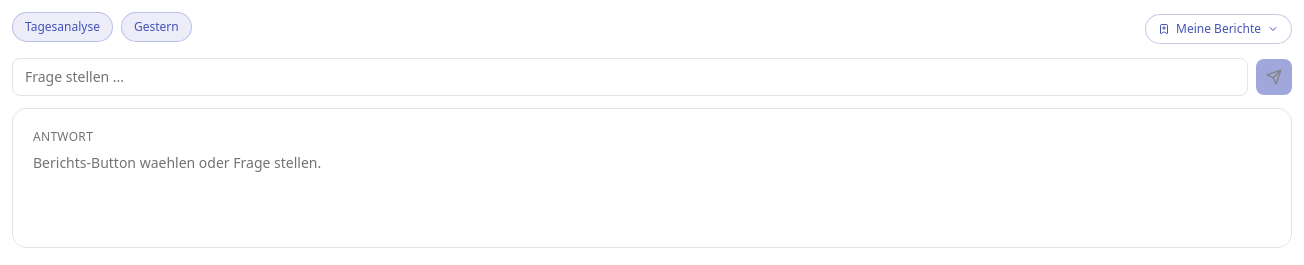
Test: KIWorkspace › V7.6 SLC-763 Custom-Reports wire-up › Save-as-Report button is visible after Freie-Frage Send (DEC-216 happy path)
In the field with test id "ki-workspace-input": (630, 77) [12,58,1248,96], type "Welche Deals haben keine Aktivitaet?"
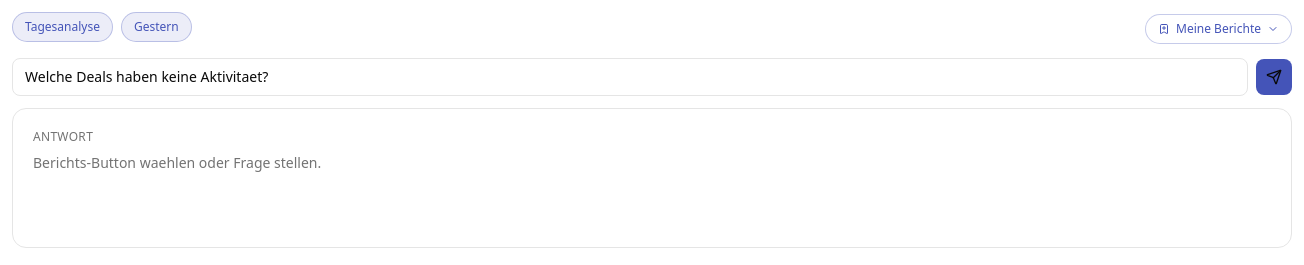
Click the button with test id "ki-workspace-send-button": (1274, 77) [1256,59,1292,95]
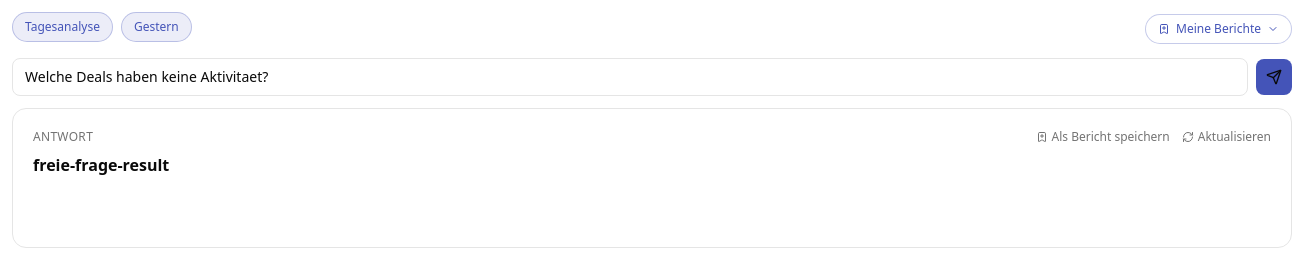
Now the element with test id "ki-workspace-result" reads "freie-frage-result", box [33,154,169,176]
Now the button with test id "answer-pane-save-as-report" is shown, box [1036,129,1170,145]
